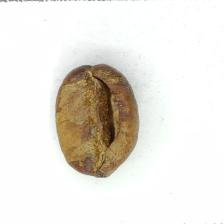NG: (63, 76, 127, 168)
